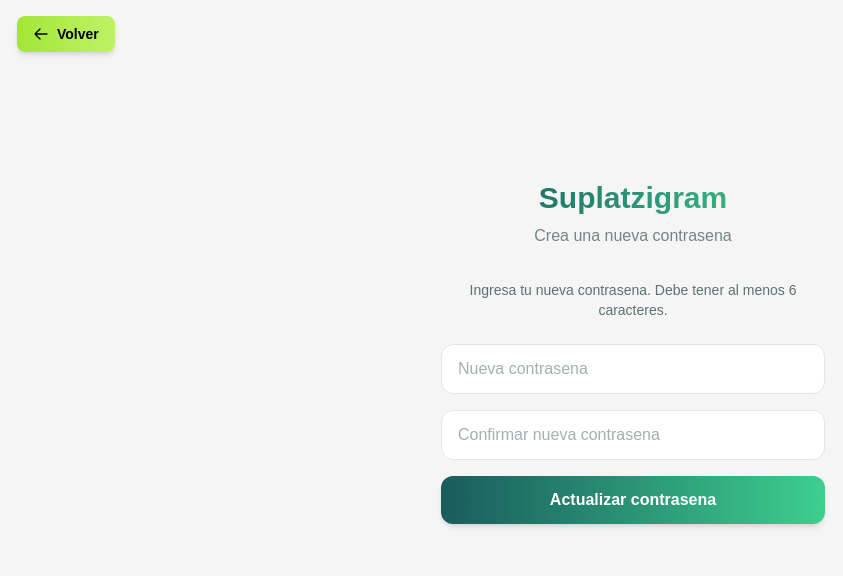
Test case: ResetPasswordPage › Form Validation › shows error when passwords do not match
This screenshot has width=843, height=576.
Type "password123" into the password field with placeholder "Nueva contrasena" at (633, 369), box [441, 344, 825, 394]
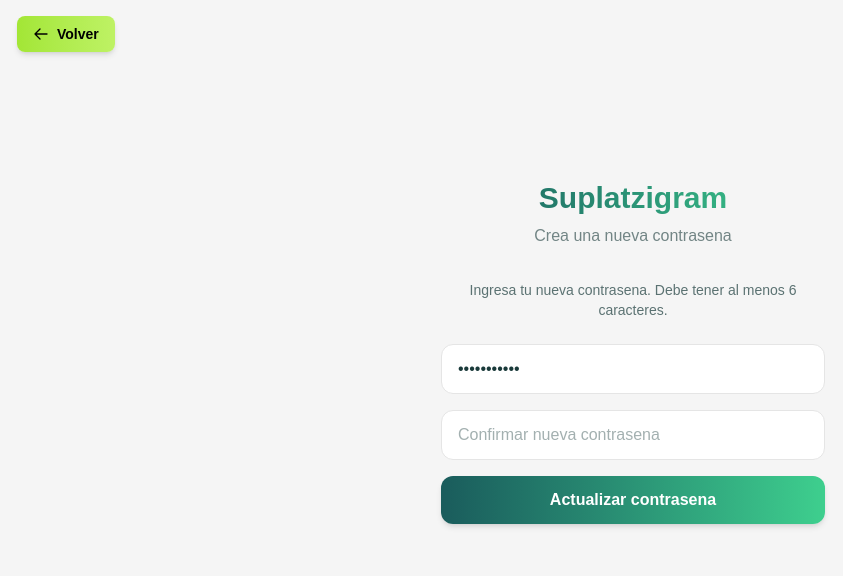
Type "different123" into the password field with placeholder "Confirmar nueva contrasena" at (633, 435), box [441, 410, 825, 460]
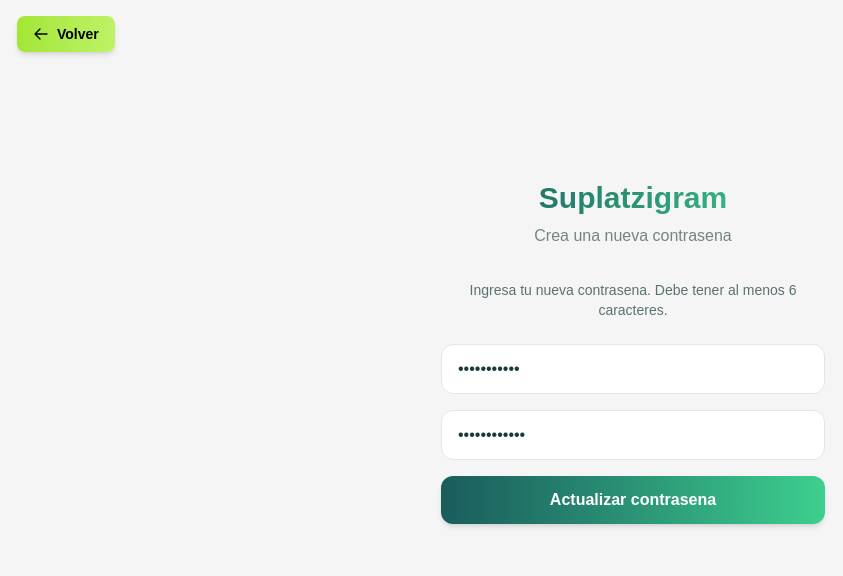
Click the button "Actualizar contrasena" at (633, 500), box [441, 476, 825, 524]
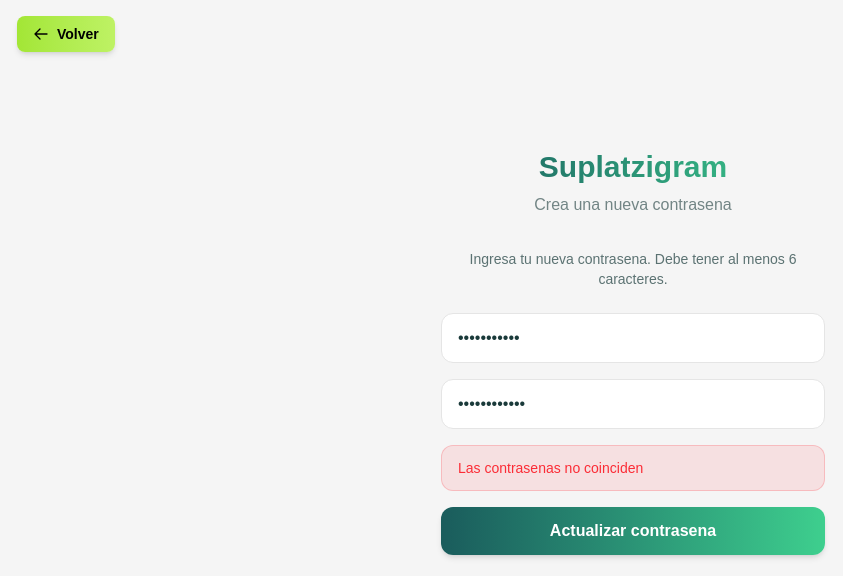
Check: the text "Las contrasenas no coinciden" is shown, box [441, 445, 825, 491]
